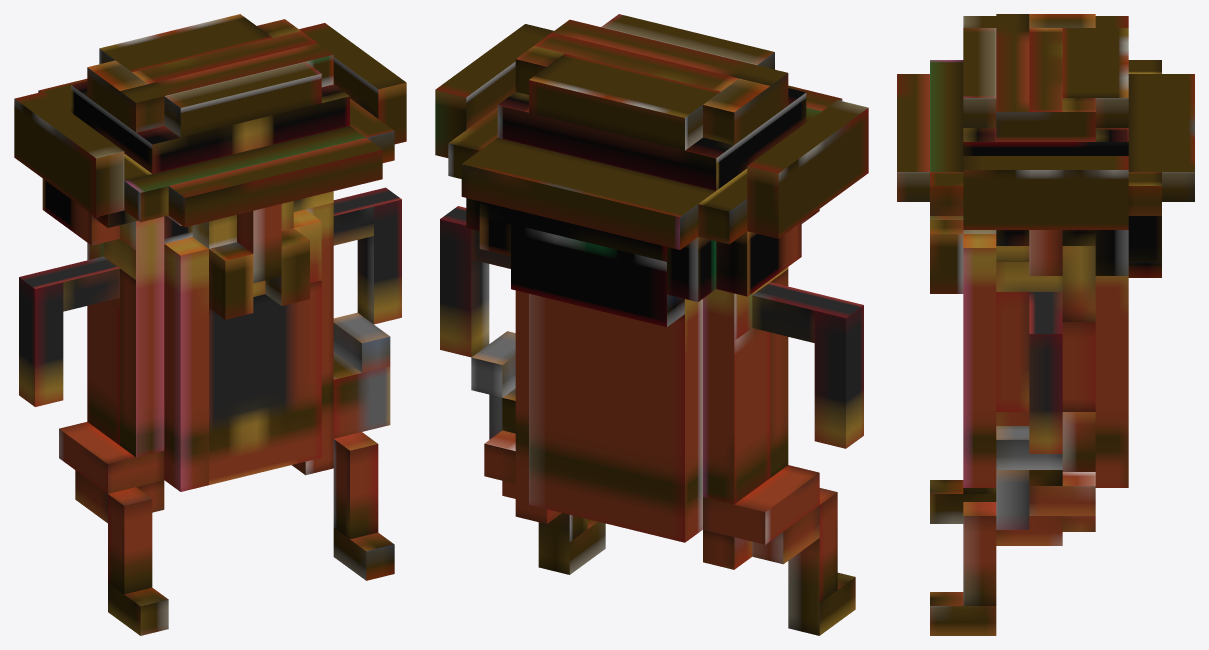
File: frameone_1.dae
The picture shows the model from 3 angles, left to right: view 1: azimuth 30°, elevation 25°; view 2: azimuth 150°, elevation 25°; view 3: azimuth 270°, elevation 25°; orthographic projection. The views are drawn at different scales.
Visible parts, largest first — view 1: frameone_1; view 2: frameone_1; view 3: frameone_1.
Part boxes in pixels (left/top/right/bottom): frameone_1: left=14, top=14, right=406, bottom=635; frameone_1: left=435, top=14, right=868, bottom=635; frameone_1: left=897, top=14, right=1194, bottom=635.
Size of the model in its own units: 13 by 17 by 9.
